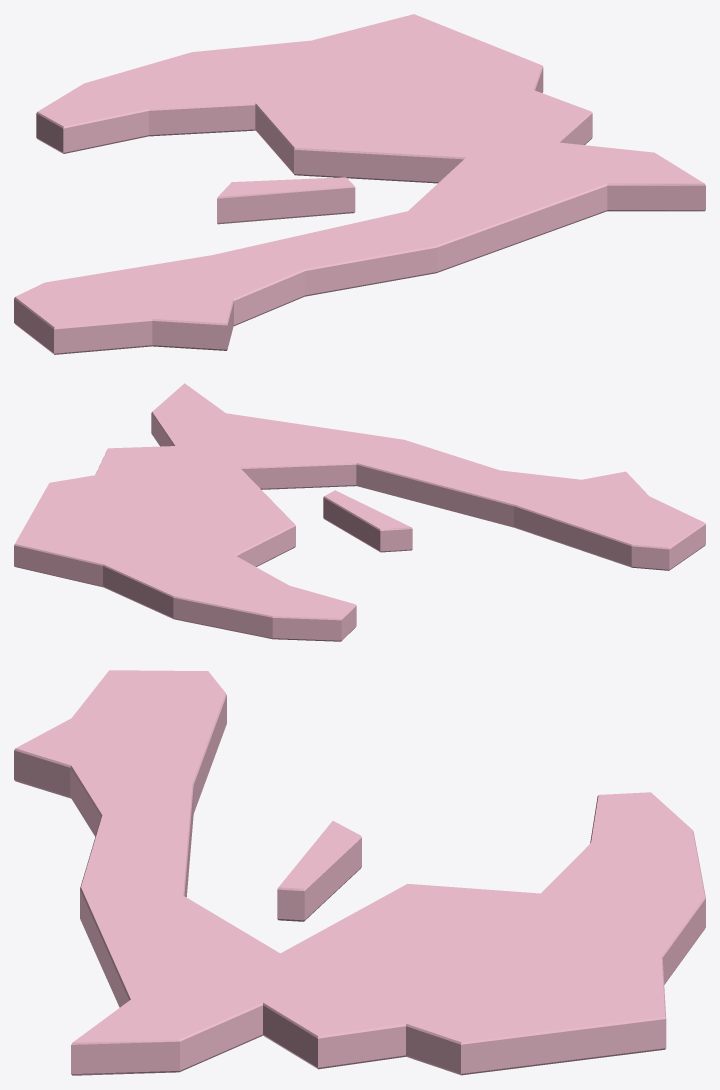
File: HTI.glb
3 renders of one model, top to bottom at view 1: azimuth 30°, elevation 25°; view 2: azimuth 150°, elevation 25°; view 3: azimuth 270°, elevation 25°, orthographic. The views are drawn at different scales.
Size of the model in its own units: 1.64 by 0.068 by 1.29.
